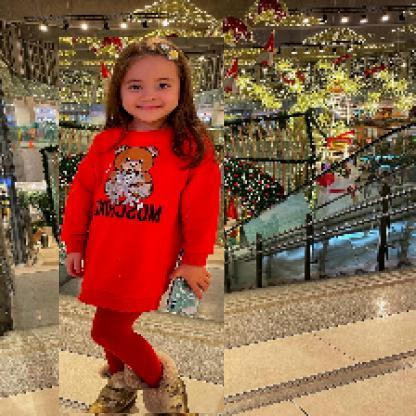child: (60, 38, 226, 415)
